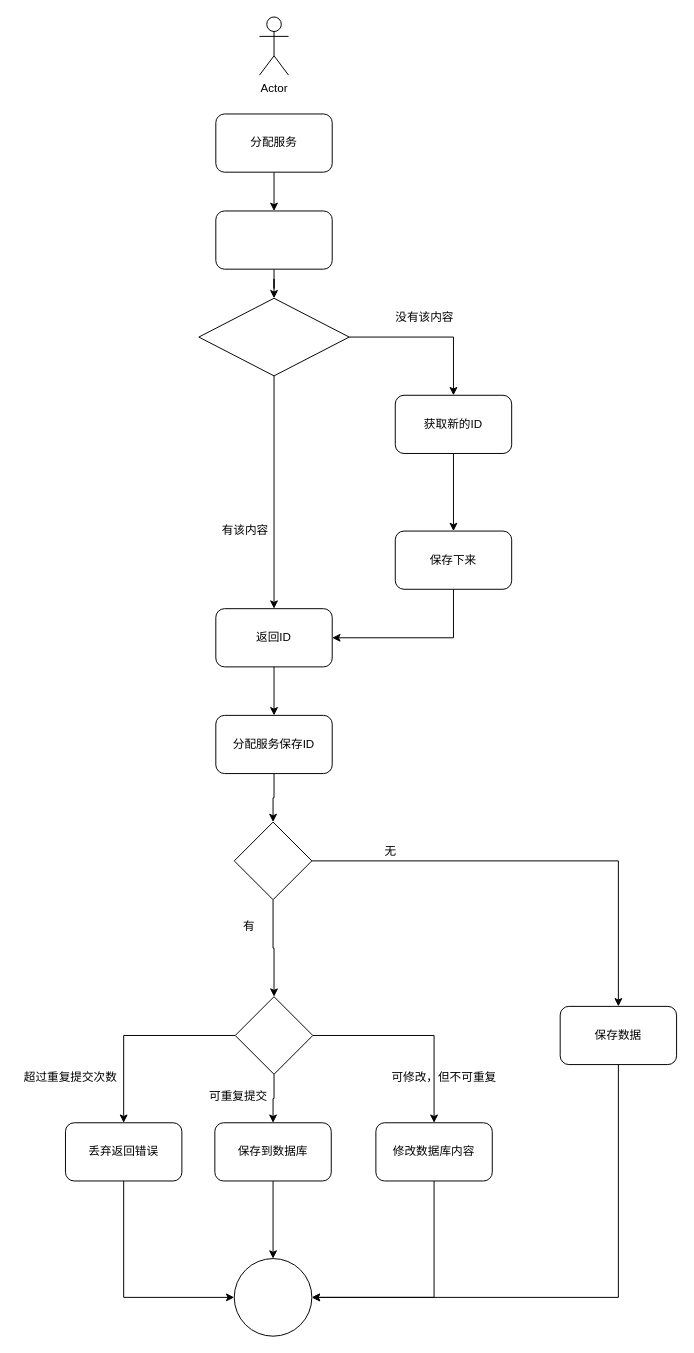
Some shapes in this 694 by 1353 pixel diagram are drawn without their labels. The box of each missing label's shape, as (x1, y1, x2, y2) in pixels:
子服务: (215, 210, 332, 269)
完成: (233, 1258, 312, 1336)
提交属性: (234, 996, 313, 1074)
是否存在该内容: (198, 297, 349, 376)
是否有重复: (233, 821, 312, 900)
